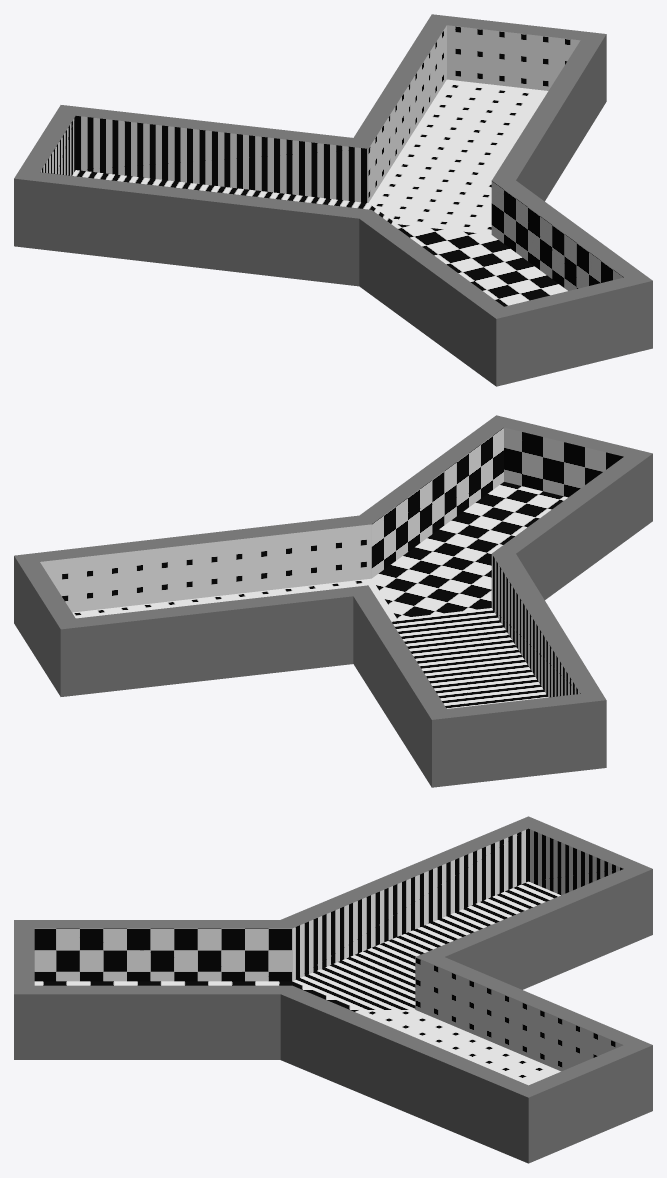
Rendered from maze_02.fbx.
3 renders of one model, top to bottom at view 1: azimuth 30°, elevation 25°; view 2: azimuth 150°, elevation 25°; view 3: azimuth 270°, elevation 25°, orthographic. The views are drawn at different scales.
Parts seen in each view (by area): view 1: pasted__group5_pasted__pCube2; view 2: pasted__group5_pasted__pCube2; view 3: pasted__group5_pasted__pCube2.
Part boxes in pixels (x1,y1,x2,y2): pasted__group5_pasted__pCube2: (14,14,652,386); pasted__group5_pasted__pCube2: (14,415,652,787); pasted__group5_pasted__pCube2: (14,816,652,1163).
Bounding box in the file's own units: 46.05 × 5.03 × 44.19.
